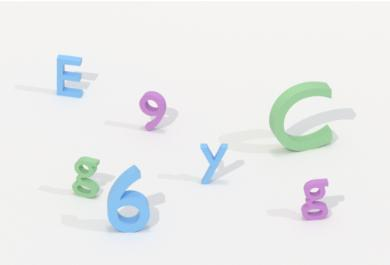9: (138, 87, 170, 134)
C: (265, 77, 337, 154)
E: (55, 49, 86, 101)
g: (299, 175, 331, 224), (70, 152, 101, 201)
y: (195, 138, 232, 189)
